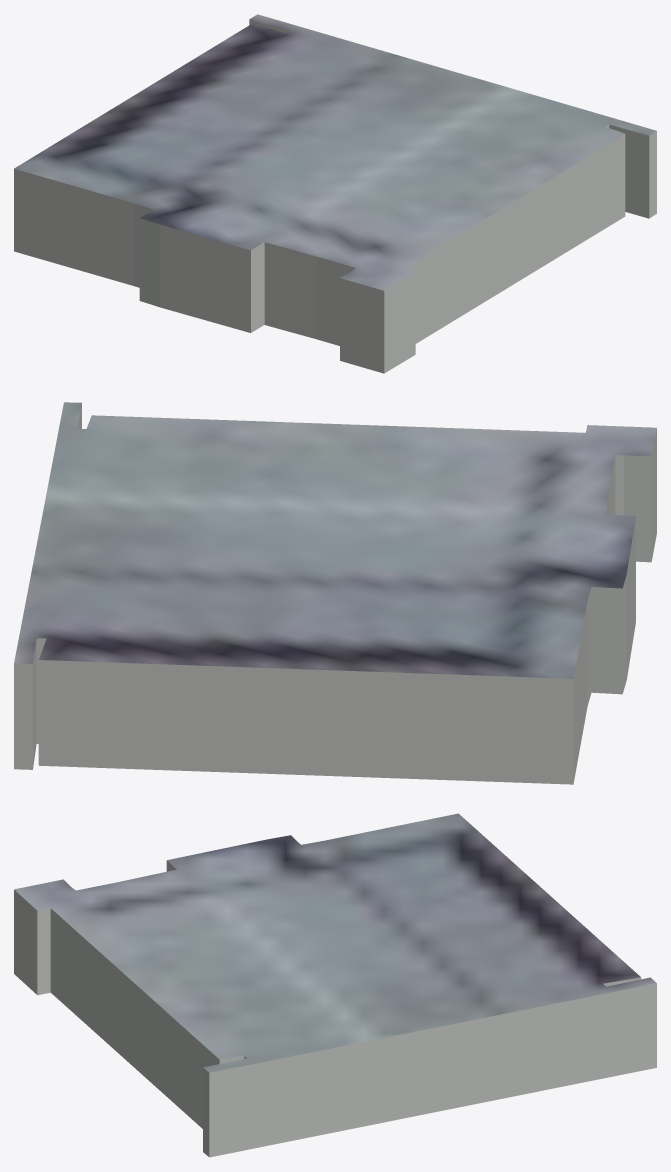
The model's file is LFSB_0_-5.glb.
The picture shows the model from 3 angles, top to bottom: view 1: azimuth 30°, elevation 25°; view 2: azimuth 150°, elevation 25°; view 3: azimuth 270°, elevation 25°; orthographic projection. The views are drawn at different scales.
Visible parts, largest first — view 1: building_BATIMENT0000002322969097; view 2: building_BATIMENT0000002322969097; view 3: building_BATIMENT0000002322969097.
Part boxes in pixels (x1=…): building_BATIMENT0000002322969097: x1=14, y1=14, x2=656, y2=373; building_BATIMENT0000002322969097: x1=14, y1=402, x2=656, y2=784; building_BATIMENT0000002322969097: x1=14, y1=813, x2=656, y2=1157.
Bounding box in the file's own units: 161 × 24.5 × 169.
2 materials, 1 textured.
